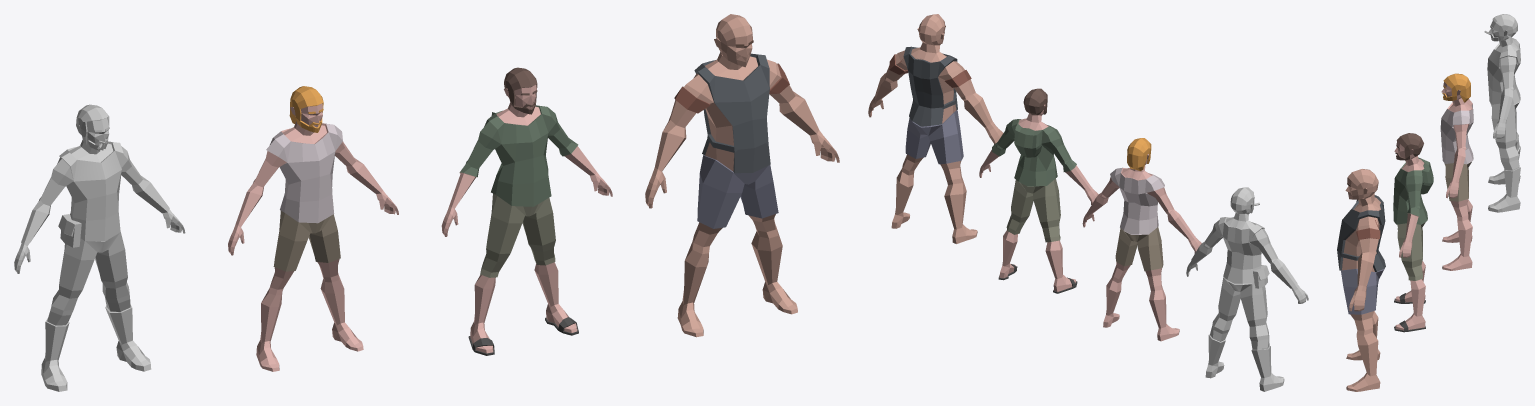
The model's file is pack.fbx.
3 renders of one model, left to right at view 1: azimuth 30°, elevation 25°; view 2: azimuth 150°, elevation 25°; view 3: azimuth 270°, elevation 25°, orthographic. The views are drawn at different scales.
Visible parts, largest first — view 1: Gigante, Grenadier, Cube, Barbar; view 2: Gigante, Grenadier, Cube, Barbar; view 3: Gigante, Cube, Grenadier, Barbar.
Boxes of the visible parts, x1,y1,x2,y2 form: Gigante: (645,14,839,337); Grenadier: (14,104,185,391); Cube: (441,67,612,355); Barbar: (228,86,398,371); Gigante: (868,14,1003,243); Grenadier: (1186,187,1308,391); Cube: (979,88,1098,293); Barbar: (1082,138,1201,341); Gigante: (1337,169,1385,391); Cube: (1393,133,1433,332); Grenadier: (1484,14,1520,212); Barbar: (1440,73,1473,270).
Size of the model in its own units: 1199 by 483 by 392.
